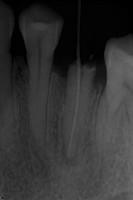Furcation Involvement: (62, 146, 80, 166)
